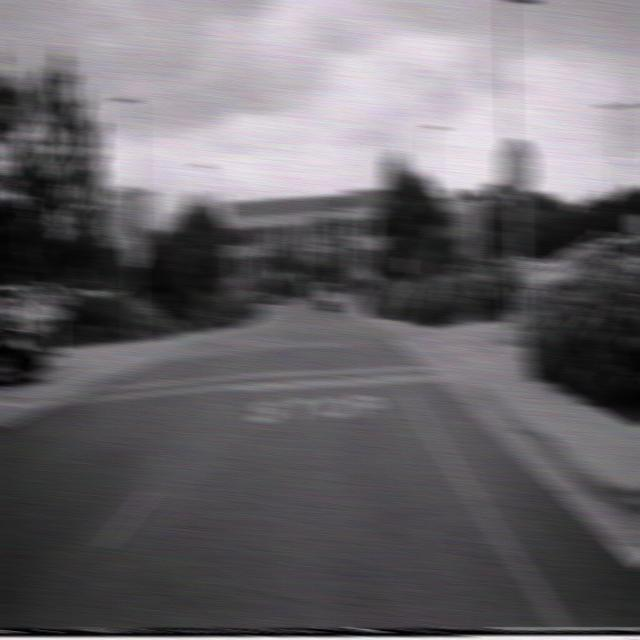stop: (497, 136, 537, 200)
